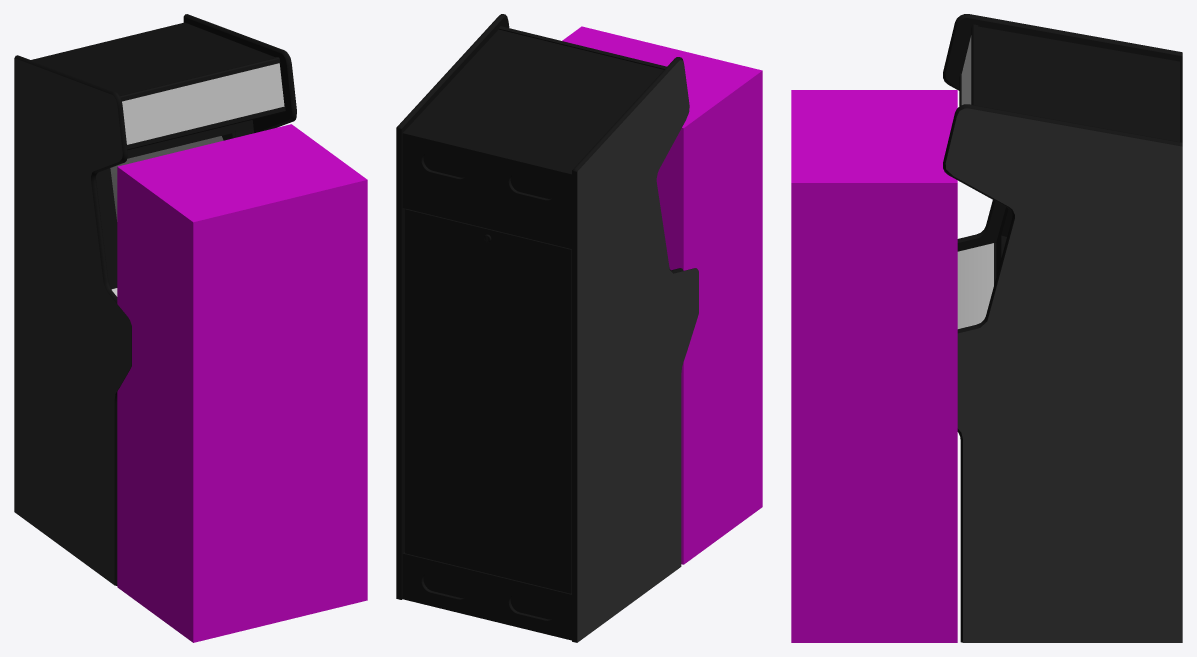
Rendered from cabinet.dae.
3 views of the same model, side by side, from view 1: azimuth 30°, elevation 25°; view 2: azimuth 150°, elevation 25°; view 3: azimuth 270°, elevation 25° (orthographic). The views are drawn at different scales.
Parts seen in each view (by area): view 1: play, cabinet-sides, cabinet-combined, cabinet-marquee, screen; view 2: cabinet-combined, cabinet-sides, play; view 3: cabinet-sides, play, cabinet-combined, cabinet-front, cabinet-marquee.
Boxes of the visible parts, bbox=[...] form: play: bbox=[117, 124, 367, 642]; cabinet-sides: bbox=[14, 58, 131, 585]; cabinet-combined: bbox=[14, 14, 296, 585]; cabinet-marquee: bbox=[122, 63, 284, 144]; screen: bbox=[110, 136, 223, 221]; cabinet-combined: bbox=[396, 14, 698, 642]; cabinet-sides: bbox=[577, 60, 698, 642]; play: bbox=[562, 26, 762, 564]; cabinet-sides: bbox=[945, 108, 1182, 642]; play: bbox=[791, 90, 957, 642]; cabinet-combined: bbox=[943, 14, 1182, 642]; cabinet-front: bbox=[957, 243, 993, 328]; cabinet-marquee: bbox=[961, 35, 971, 104].
Size of what is drawn, in the model's own units: 0.6614 by 1.17 by 1.78.
7 materials, 5 textured.
